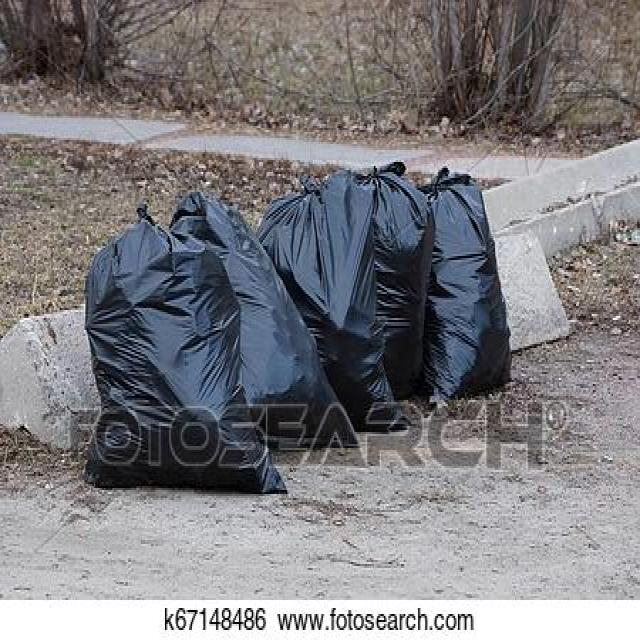garbage: (72, 162, 544, 502)
